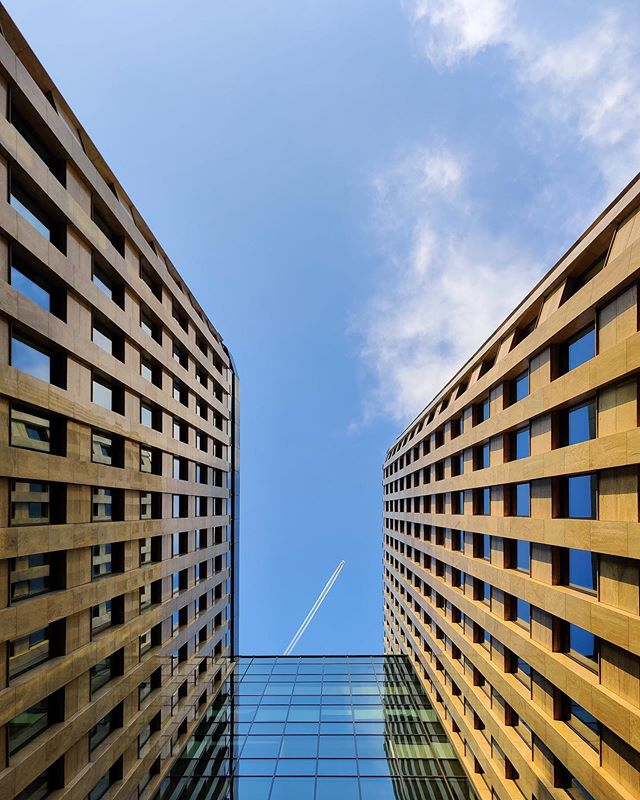building: (4, 26, 239, 800), (384, 185, 640, 800), (28, 644, 422, 800)
sky: (20, 1, 640, 303), (237, 292, 384, 652)
